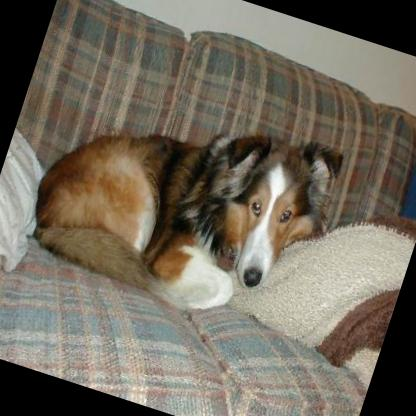Shetland_sheepdog: (15, 57, 356, 346)
